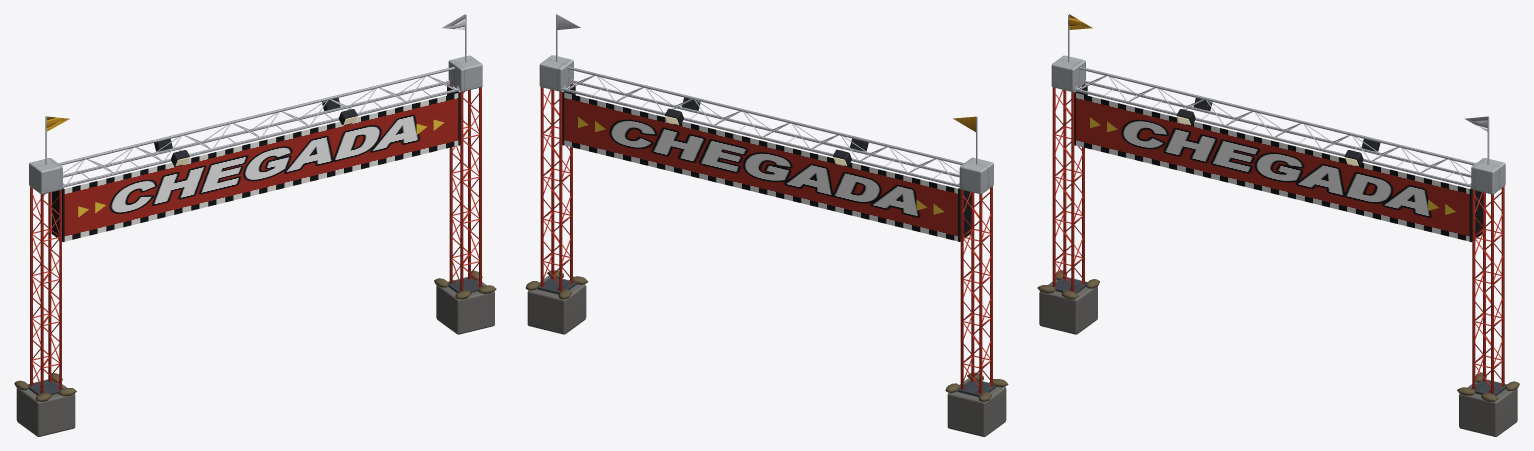
The model's file is portico_de_chegada.glb.
The picture shows the model from 3 angles, left to right: view 1: azimuth 30°, elevation 25°; view 2: azimuth 150°, elevation 25°; view 3: azimuth 330°, elevation 25°; orthographic projection.
Visible parts, largest first — view 1: portico_de_chegada, portico_de_chegada_liso; view 2: portico_de_chegada, portico_de_chegada_liso; view 3: portico_de_chegada, portico_de_chegada_liso.
Part boxes in pixels (bbox=[...]): portico_de_chegada: bbox=[14, 14, 496, 401]; portico_de_chegada_liso: bbox=[16, 15, 494, 436]; portico_de_chegada: bbox=[525, 14, 1008, 402]; portico_de_chegada_liso: bbox=[527, 14, 1006, 436]; portico_de_chegada: bbox=[1037, 14, 1519, 401]; portico_de_chegada_liso: bbox=[1039, 15, 1517, 436].
Bounding box in the file's own units: 11.49 × 7.32 × 1.12.
Materials: 6 (3 with a texture image).
